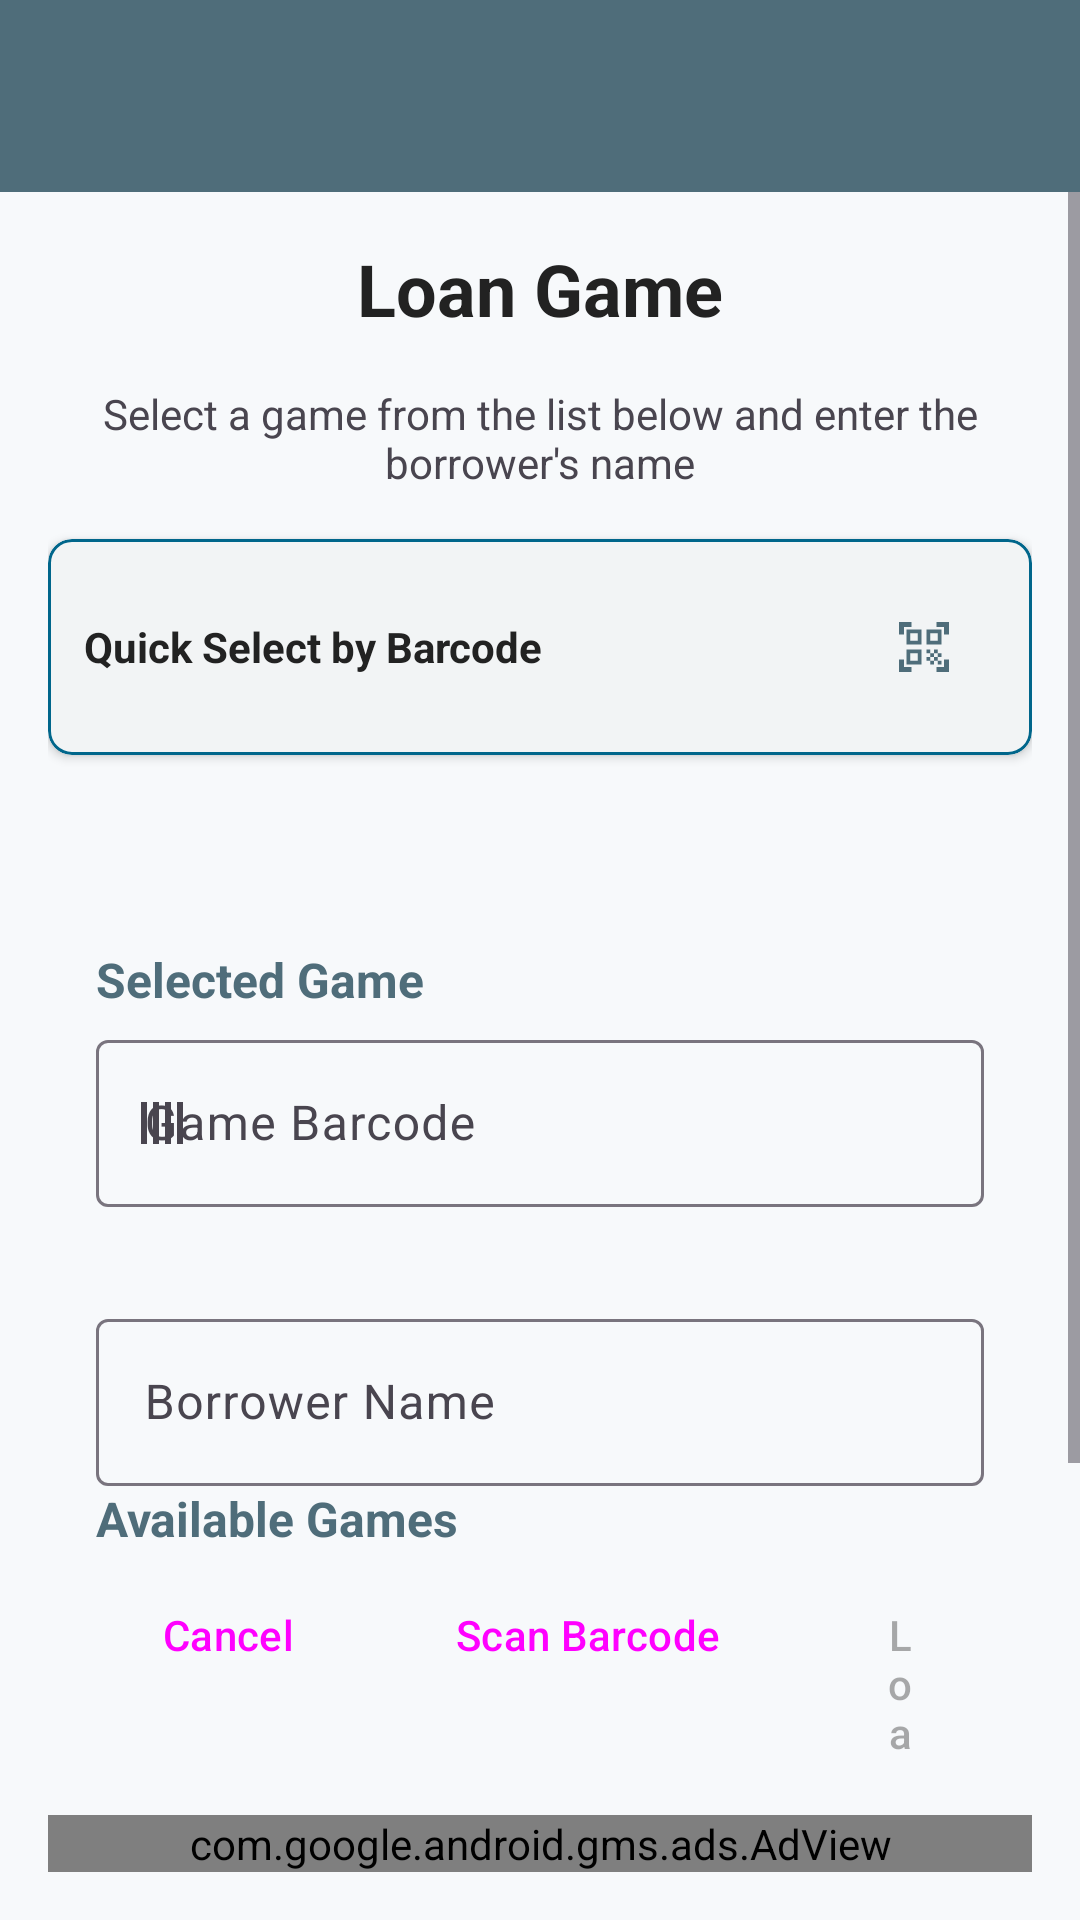

Named icons in this screenshot (1080*1920) and their bounding boxes, (x1,y1,x2,y2):
Scan Barcode: (899,622,949,672)
